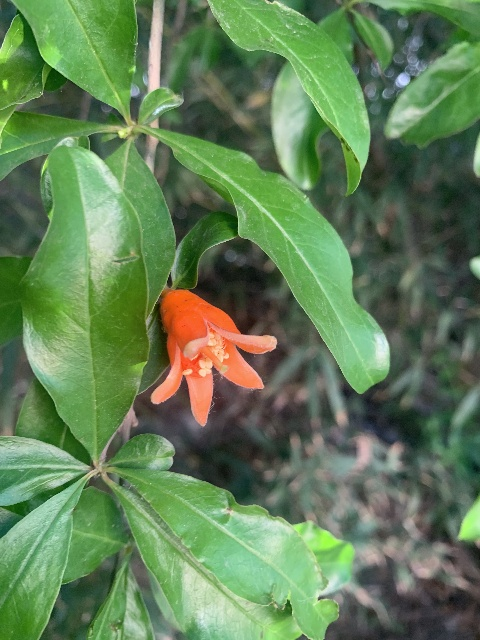flower: (149, 289, 276, 426)
